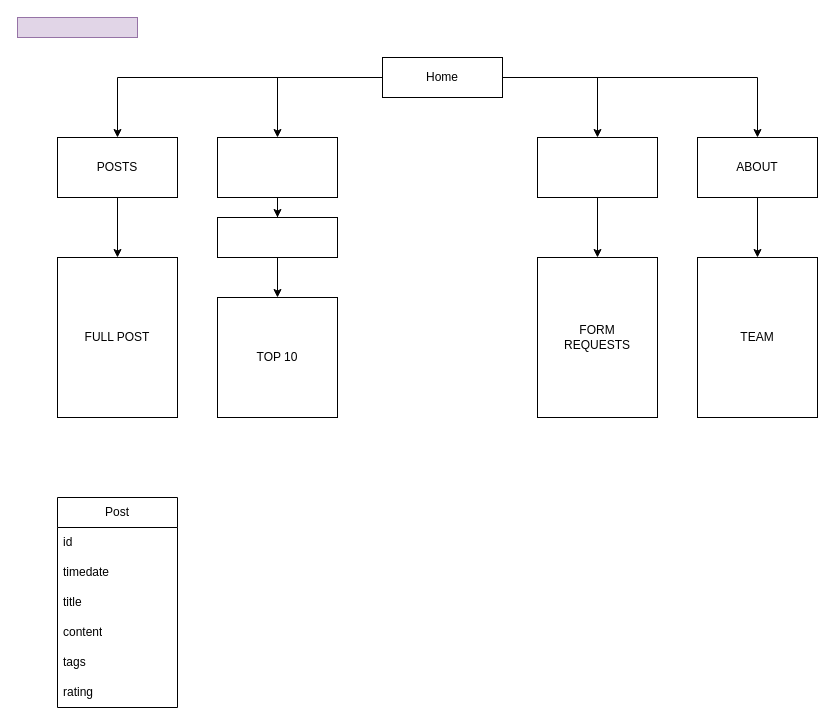
The diagram is 835 pixels wide and 725 high, and some of its shapes have lost their labels. The shapes that lost their labels are listed below. From the top down, each one's centre as x and y in pixels, then its label:
the point at 77,27: tasteit - v.0.1
the point at 277,167: CATEGORIES
the point at 597,167: REQUESTS
the point at 277,237: CATEGORIA
